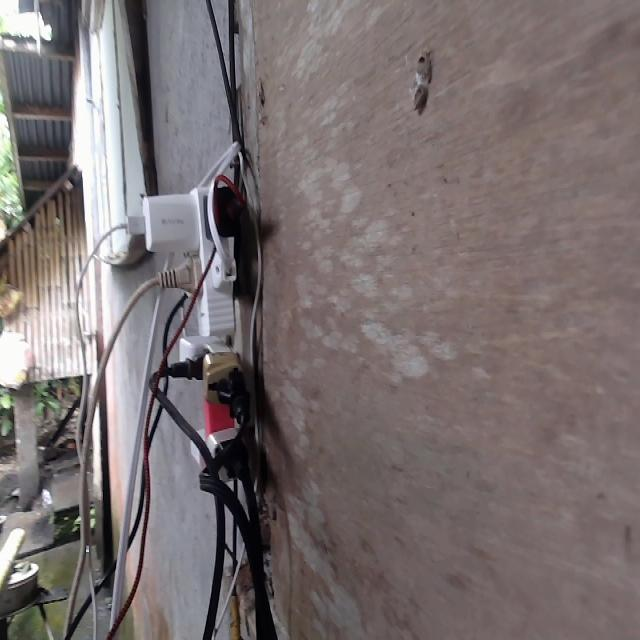-: (123, 178, 257, 491)
